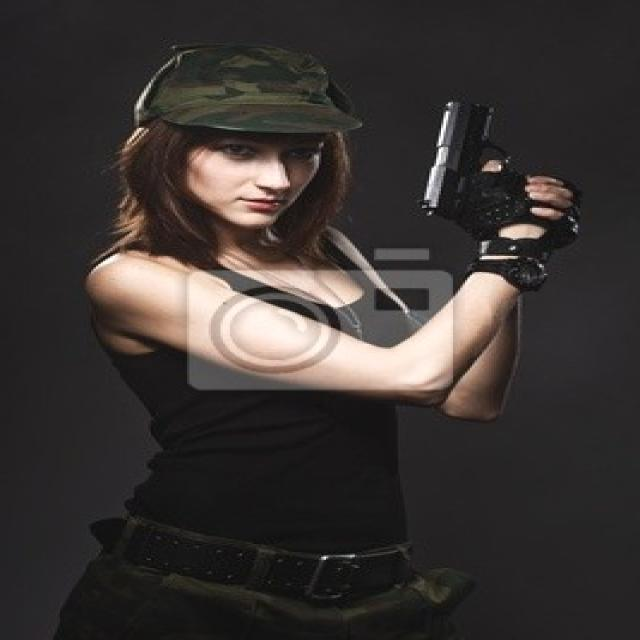pistol: (414, 94, 546, 229)
